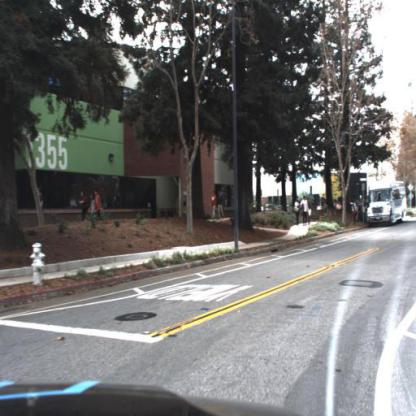pedestrian: (89, 189, 103, 223), (78, 190, 89, 223), (210, 187, 220, 221), (293, 195, 303, 229), (301, 193, 310, 228), (217, 188, 225, 223)
truck: (363, 178, 410, 227)
